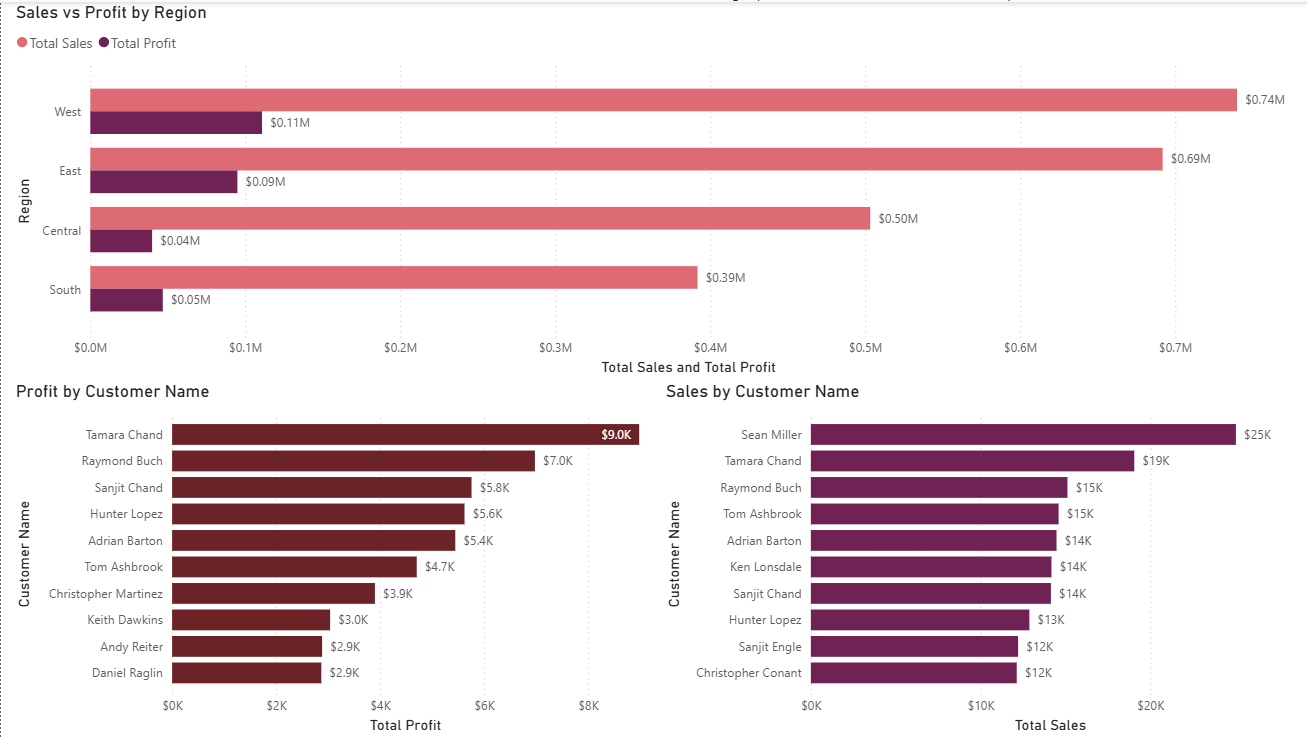

The page's visual inventory and layout, read from the dashboard file:
{"tool":"powerbi","page":{"name":"Customer & Region Analysis","canvas":[1280,720],"ordinal":2},"visuals":[{"type":"clusteredBarChart","title":"Sales vs Profit by Region","fields":{"Y":["Superstore.Total Sales","Superstore.Total Profit"],"Category":["Superstore.Region"]},"box":[9.8,0,1270.5,370.5],"z":0},{"type":"clusteredBarChart","title":"Profit by Customer Name","fields":{"Y":["Superstore.Total Profit"],"Category":["Superstore.Customer Name"]},"box":[9.8,370.5,629.8,349.7],"z":1},{"type":"clusteredBarChart","title":"Sales by Customer Name","fields":{"Category":["Superstore.Customer Name"],"Y":["Superstore.Total Sales"]},"box":[645.7,370.5,634.7,349.7],"z":2}]}

Visuals, with their boxes in screenshot pixels (x1, y1, x2, y2), scaled from the page's 1280x720 canvas onto the 1307x737 screenshot:
"Sales vs Profit by Region" clusteredBarChart: region(10, 0, 1306, 379)
"Profit by Customer Name" clusteredBarChart: region(10, 379, 653, 736)
"Sales by Customer Name" clusteredBarChart: region(659, 379, 1306, 736)
